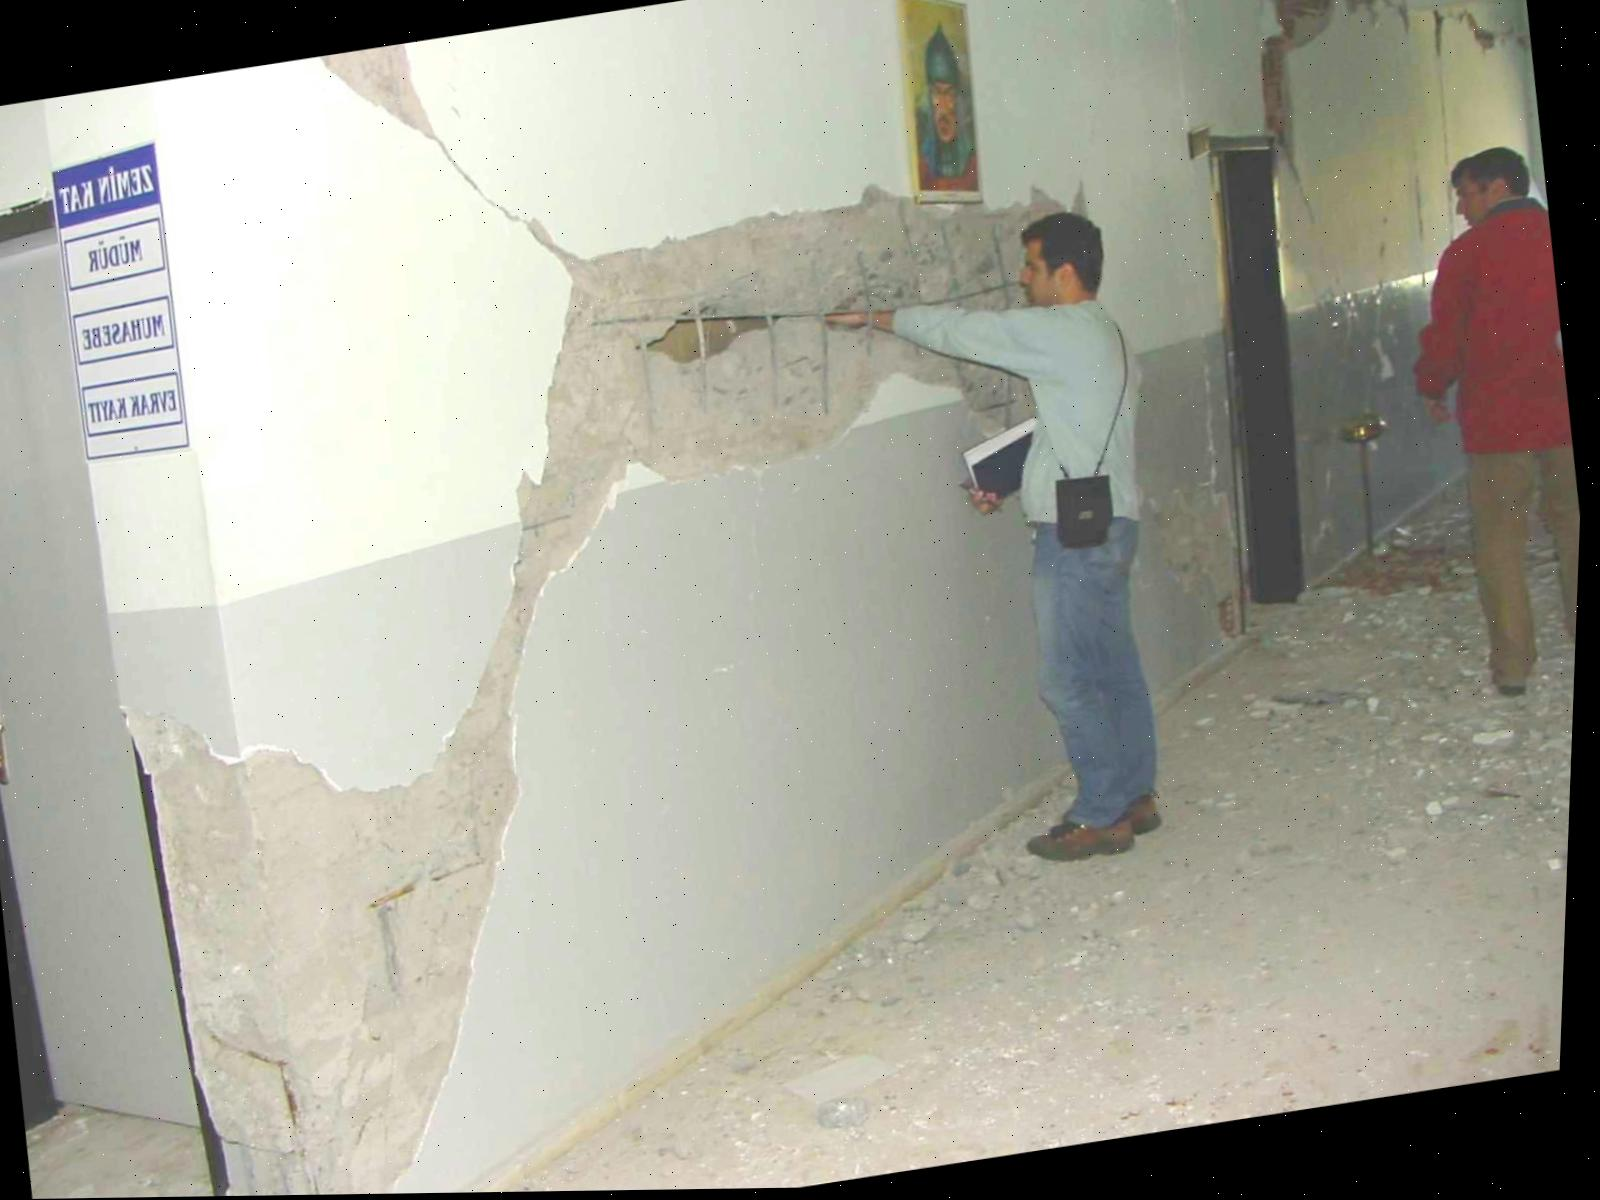spalling: (123, 189, 1051, 1195), (326, 45, 455, 163), (1260, 0, 1334, 147)
